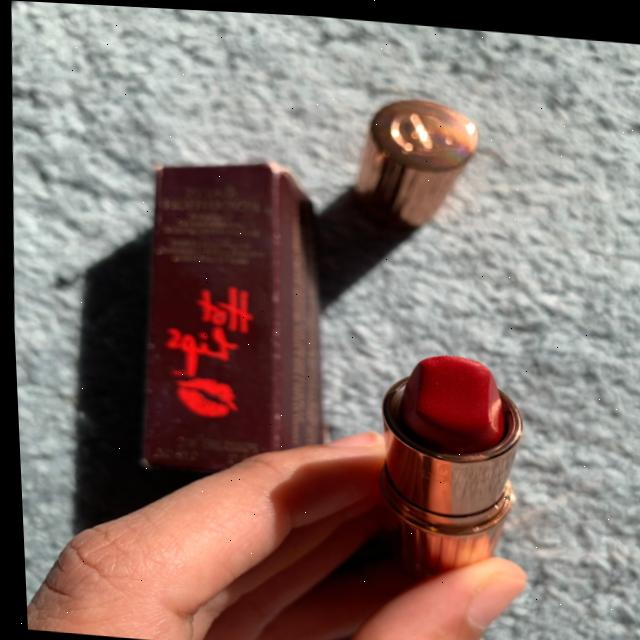lip stick: (322, 296, 549, 585)
